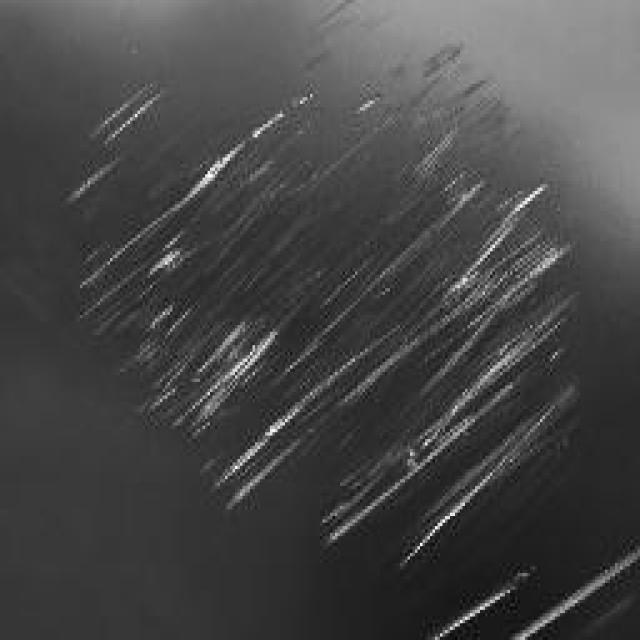Door: (40, 0, 638, 640)
